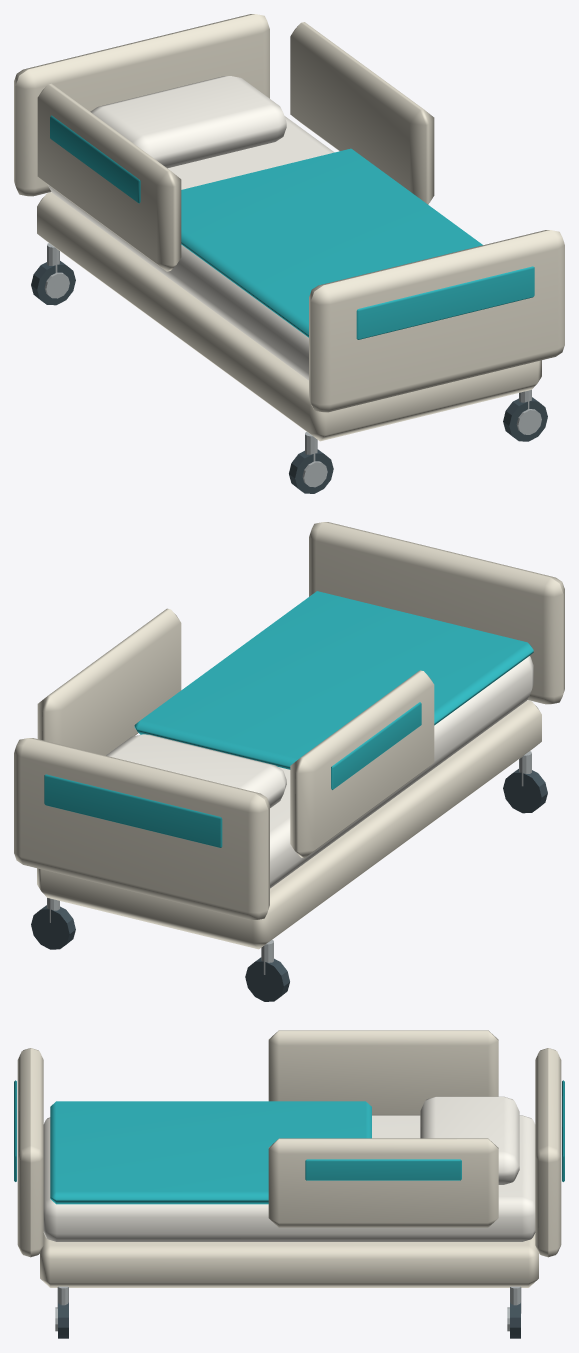
The model's file is RecoveryBed_standard.glb.
3 renders of one model, top to bottom at view 1: azimuth 30°, elevation 25°; view 2: azimuth 150°, elevation 25°; view 3: azimuth 270°, elevation 25°, orthographic. The views are drawn at different scales.
Visible parts, largest first — view 1: Static_ivory, Static_teal, Static_white, Static_dark, Static_steel; view 2: Static_ivory, Static_teal, Static_white, Static_dark, Static_steel; view 3: Static_ivory, Static_teal, Static_white, Static_dark, Static_steel.
Boxes of the visible parts, x1,y1,x2,y2 form: Static_ivory: [14, 14, 564, 441]; Static_teal: [50, 115, 534, 339]; Static_white: [48, 76, 334, 380]; Static_dark: [31, 261, 547, 493]; Static_steel: [44, 243, 541, 487]; Static_ivory: [14, 522, 564, 949]; Static_teal: [44, 591, 533, 847]; Static_white: [106, 656, 533, 888]; Static_dark: [31, 769, 547, 1001]; Static_steel: [47, 751, 531, 974]; Static_ivory: [17, 1030, 561, 1287]; Static_teal: [14, 1080, 564, 1204]; Static_white: [43, 1096, 535, 1241]; Static_dark: [58, 1302, 520, 1338]; Static_steel: [55, 1286, 521, 1331].
Bounding box in the file's own units: 1.1 × 0.87 × 2.11.
